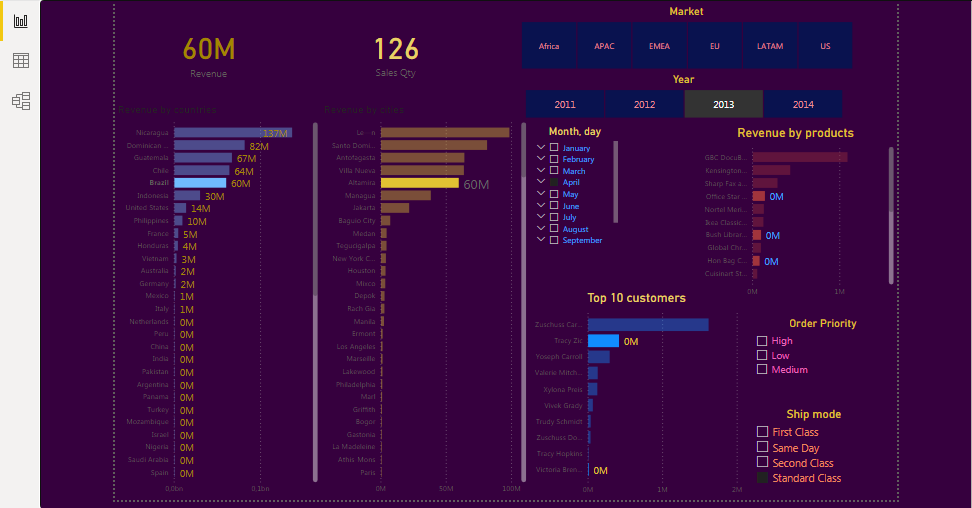

This screenshot's page, from the dashboard's own definition file:
{"tool":"powerbi","page":{"name":"Page 1","canvas":[1280,817],"ordinal":0},"visuals":[{"type":"card","fields":{"Values":["Global-Superstore.Sales Qty"]},"box":[306.2,0,306.2,163.7],"z":0},{"type":"card","fields":{"Values":["Global-Superstore.Sales"]},"box":[0,0,306.2,167],"z":1000},{"type":"barChart","title":"Revenue by cities","fields":{"Y":["Global-Superstore.Revenue"],"Category":["Global-Superstore.City"]},"box":[337.3,167,340.6,650],"z":2000},{"type":"barChart","title":"Revenue by countries","fields":{"Y":["Global-Superstore.Revenue"],"Category":["Global-Superstore.Country"]},"box":[0,167,337.3,650],"z":3000},{"type":"barChart","title":"Top 10 customers","fields":{"Y":["Global-Superstore.Revenue"],"Category":["Global-Superstore.Customer Name"]},"box":[669.6,473.2,368.4,343.8],"z":4000},{"type":"slicer","title":"Order Priority","fields":{"Values":["Global-Superstore.Order Priority"]},"box":[1038,517.4,242.3,127.7],"z":5000},{"type":"slicer","title":"Market","fields":{"Values":["Global-Superstore.Market"]},"box":[640.2,6.5,591.1,111.3],"z":6000},{"type":"slicer","title":"Year","fields":{"Values":["Global-Superstore.Order Date.Variation.Date Hierarchy.Year"]},"box":[646.7,117.9,568.1,80.2],"z":7000},{"type":"slicer","title":"Month, day","fields":{"Values":["Global-Superstore.Order Date.Variation.Date Hierarchy.Month","Global-Superstore.Order Date.Variation.Date Hierarchy.Day"]},"box":[677.8,203,150.6,206.3],"z":8000},{"type":"barChart","title":"Revenue by products","fields":{"Y":["Global-Superstore.Revenue"],"Category":["Global-Superstore.Product Name"]},"box":[948,203,332.4,289.8],"z":9000},{"type":"slicer","title":"Ship mode","fields":{"Values":["Global-Superstore.Ship Mode Hierarchy.Ship Mode"]},"box":[1038,664.7,212.8,135.9],"z":10000}]}

Visuals, with their boxes on the page's 1280x817 design canvas (x1, y1, x2, y2). These are canvas units, not pixel positions in the 972x508 screenshot, which may show the page scaled, cropped or inside an application window:
card - Global-Superstore.Sales Qty: 306,0,612,164
card - Global-Superstore.Sales: 0,0,306,167
"Revenue by cities" barChart: 337,167,678,817
"Revenue by countries" barChart: 0,167,337,817
"Top 10 customers" barChart: 670,473,1038,817
"Order Priority" slicer: 1038,517,1280,645
"Market" slicer: 640,6,1231,118
"Year" slicer: 647,118,1215,198
"Month, day" slicer: 678,203,828,409
"Revenue by products" barChart: 948,203,1280,493
"Ship mode" slicer: 1038,665,1251,801
